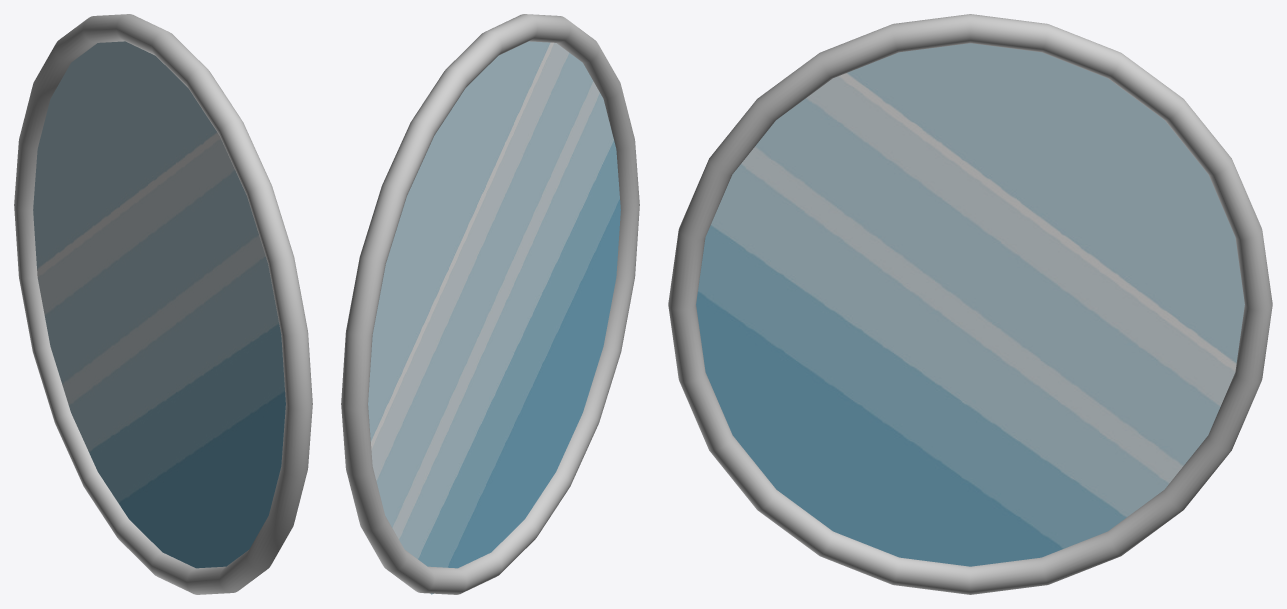
Rendered from Bathroom_Mirror_02.fbx.
3 views of the same model, side by side, from view 1: azimuth 30°, elevation 25°; view 2: azimuth 150°, elevation 25°; view 3: azimuth 270°, elevation 25° (orthographic). The views are drawn at different scales.
Visible parts, largest first — view 1: Bathroom_Mirror_02; view 2: Bathroom_Mirror_02; view 3: Bathroom_Mirror_02.
Boxes of the visible parts, x1,y1,x2,y2 form: Bathroom_Mirror_02: (14,14,312,594); Bathroom_Mirror_02: (341,14,639,594); Bathroom_Mirror_02: (668,14,1272,594).
Size of the model in its own units: 6.75 by 150 by 142.
